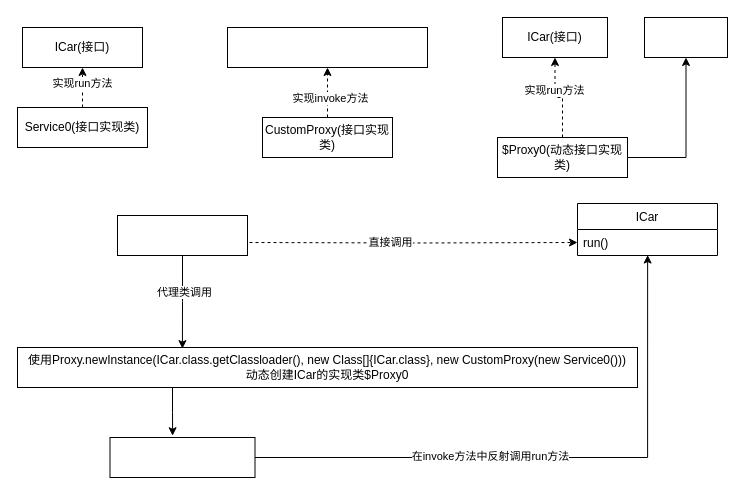
Image size: 745x495. Some labels were removed from this diagram. The shapes that lost their labels are listed below. From the top down, each one's centre as x and y in pixels, then its label:
the point at 327,47: InvocationHander(代理中介接口)
the point at 686,37: Proxy(父类)
the point at 182,235: 直接创建Service0实例
the point at 182,457: 调用InvocationHander接口实现类的invoke方法
